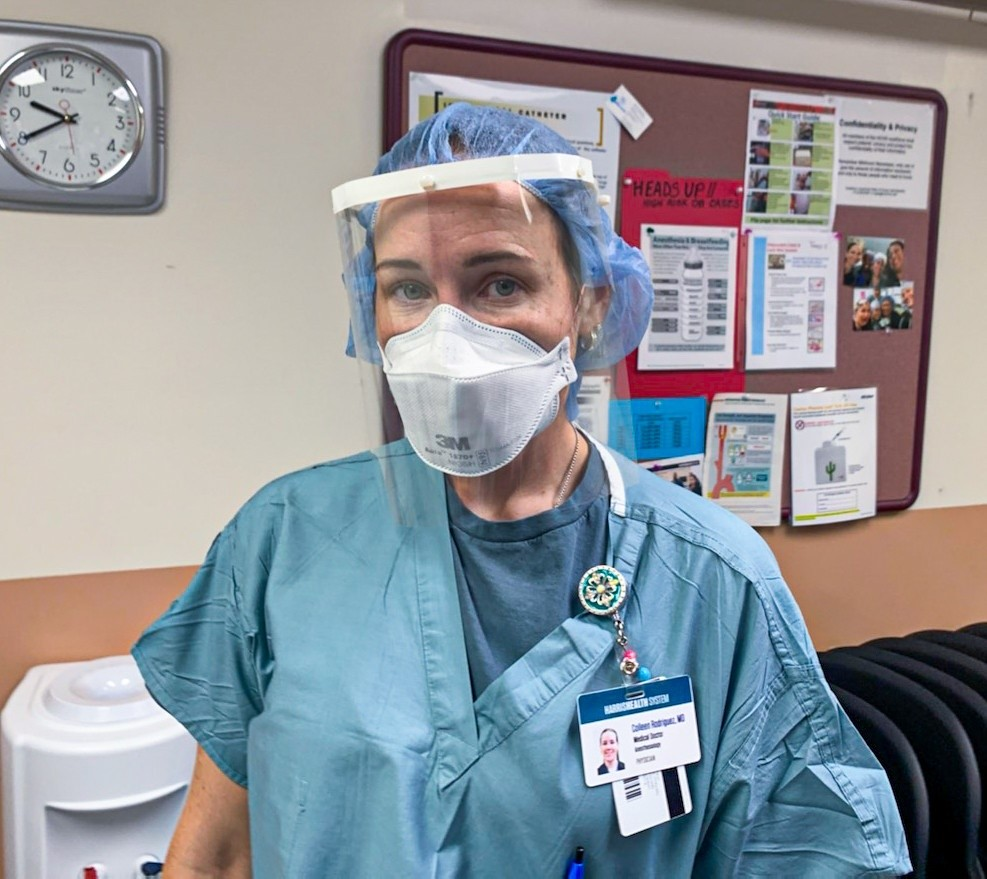face_with_mask: (365, 112, 600, 484)
